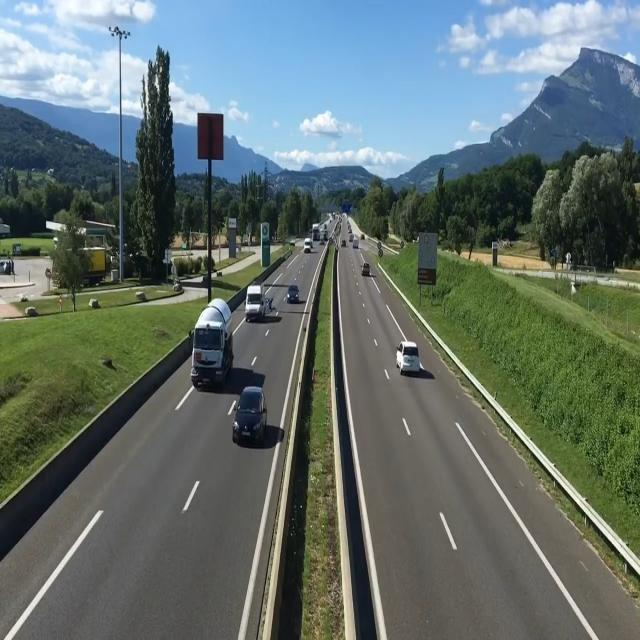Car: (226, 384, 271, 445), (396, 341, 420, 375), (286, 285, 300, 303), (361, 262, 370, 276)
Truck: (182, 298, 235, 386)
Van: (242, 284, 268, 324)
